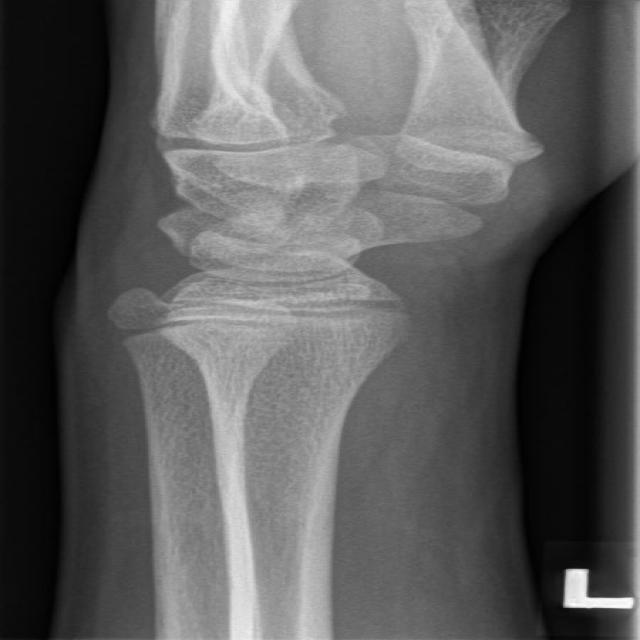fracture: (95, 296, 449, 350)
